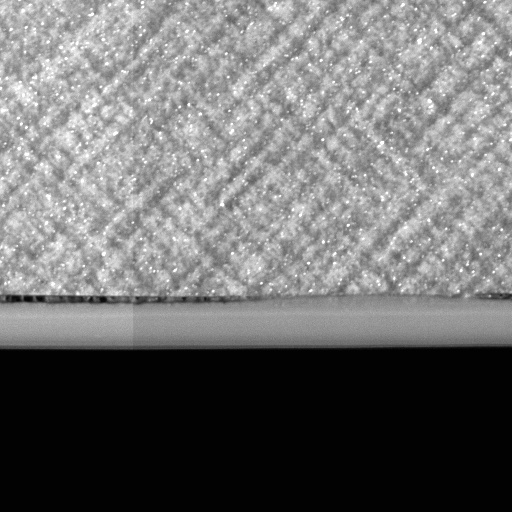jiaofeng: (0, 290, 258, 319), (473, 288, 511, 316)
